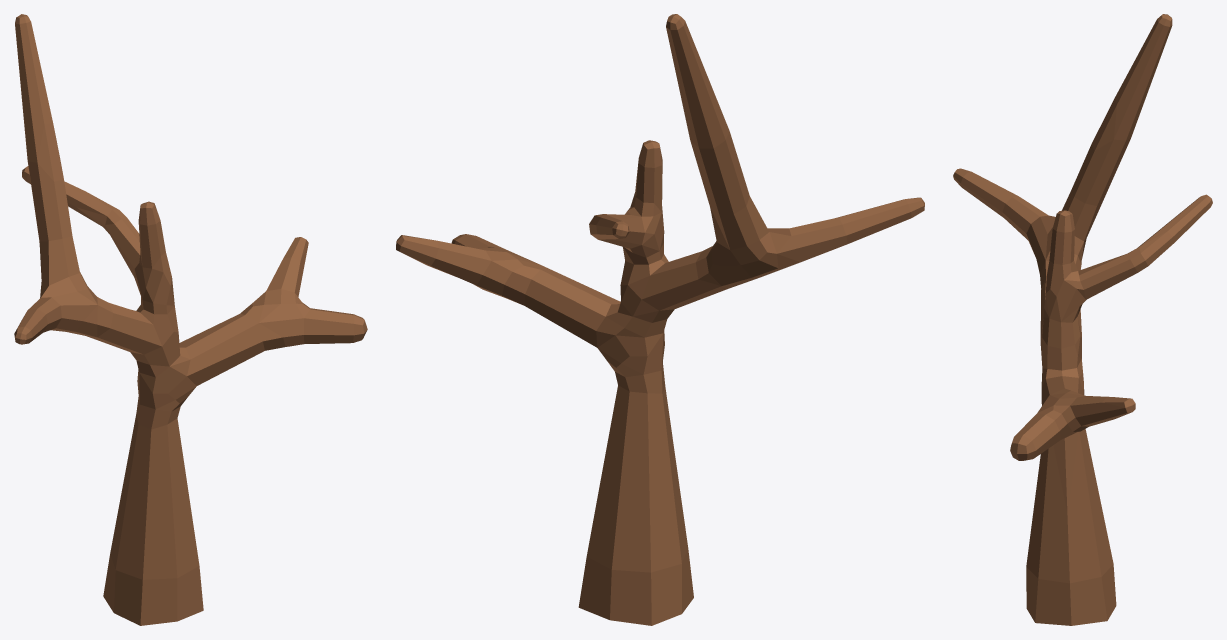
The model's file is tree-autumn-trunk-9-033.glb.
The picture shows the model from 3 angles, left to right: view 1: azimuth 30°, elevation 25°; view 2: azimuth 150°, elevation 25°; view 3: azimuth 270°, elevation 25°; orthographic projection. The views are drawn at different scales.
Visible parts, largest first — view 1: TREE 9.002_406; view 2: TREE 9.002_406; view 3: TREE 9.002_406.
Part boxes in pixels (left/top/right/bottom): TREE 9.002_406: left=14, top=14, right=367, bottom=625; TREE 9.002_406: left=396, top=14, right=924, bottom=625; TREE 9.002_406: left=953, top=14, right=1212, bottom=625.
Size of the model in its own units: 0.7814 by 1.12 by 0.4749.
